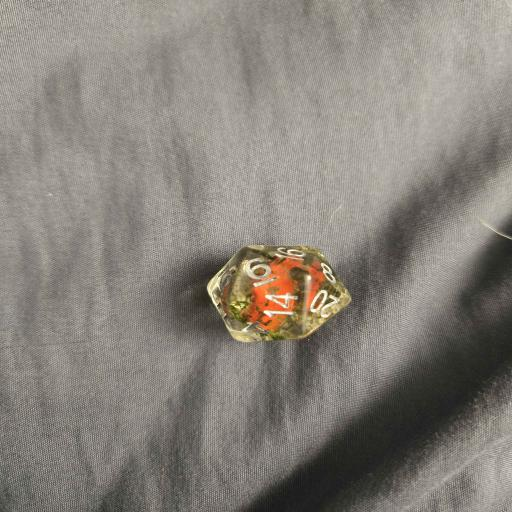twenty sided dice: (207, 244, 352, 342)
